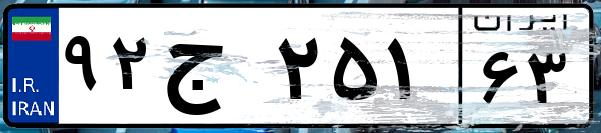1: (385, 28, 445, 110)
2: (270, 28, 330, 110), (110, 28, 158, 98)
3: (525, 38, 570, 115)
5: (330, 28, 385, 110)
6: (475, 38, 525, 113)
9: (57, 26, 110, 100)
ج: (158, 20, 270, 120)
